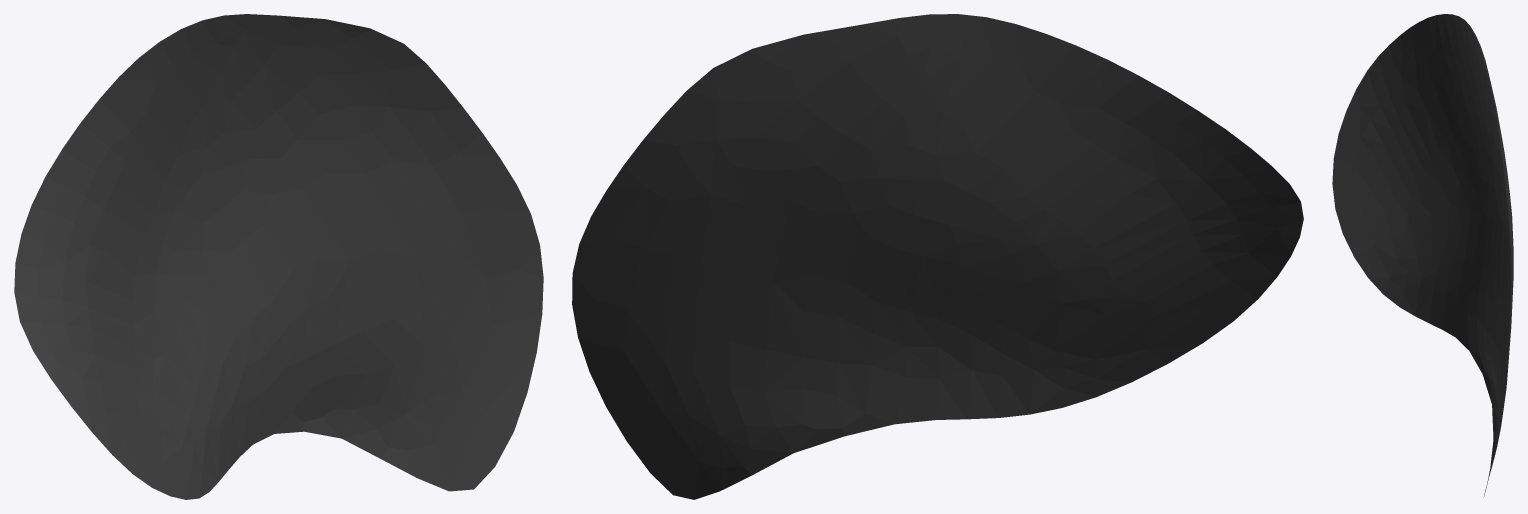
The model's file is Radius_fovea_articular.glb.
3 views of the same model, side by side, from view 1: azimuth 30°, elevation 25°; view 2: azimuth 150°, elevation 25°; view 3: azimuth 270°, elevation 25° (orthographic). The views are drawn at different scales.
Visible parts, largest first — view 1: Radius_fovea_articular; view 2: Radius_fovea_articular; view 3: Radius_fovea_articular.
Part boxes in pixels (x1=…): Radius_fovea_articular: x1=14, y1=14, x2=543, y2=499; Radius_fovea_articular: x1=572, y1=14, x2=1303, y2=499; Radius_fovea_articular: x1=1332, y1=14, x2=1513, y2=497.
Size of the model in its own units: 0.1727 by 0.1432 by 0.0632.
Materials: 1 (1 with a texture image).
